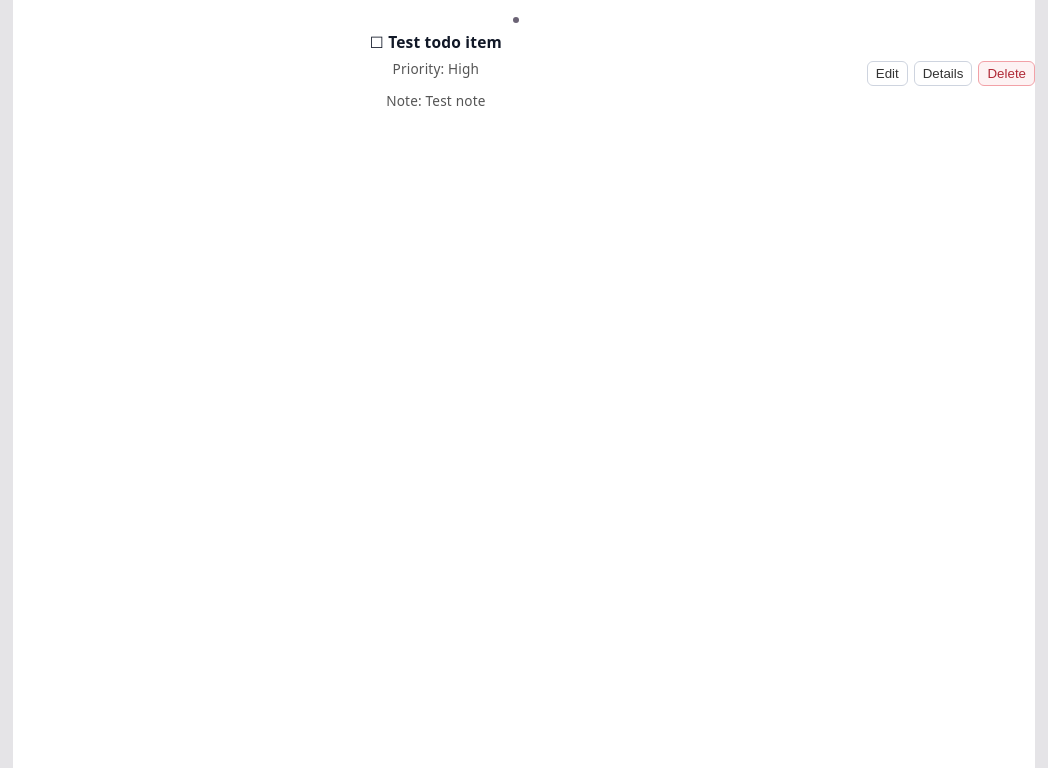
Test case: TodoItemRow › opens details form when Details is clicked
Click the button "Details": (943, 74) [914,61,972,86]
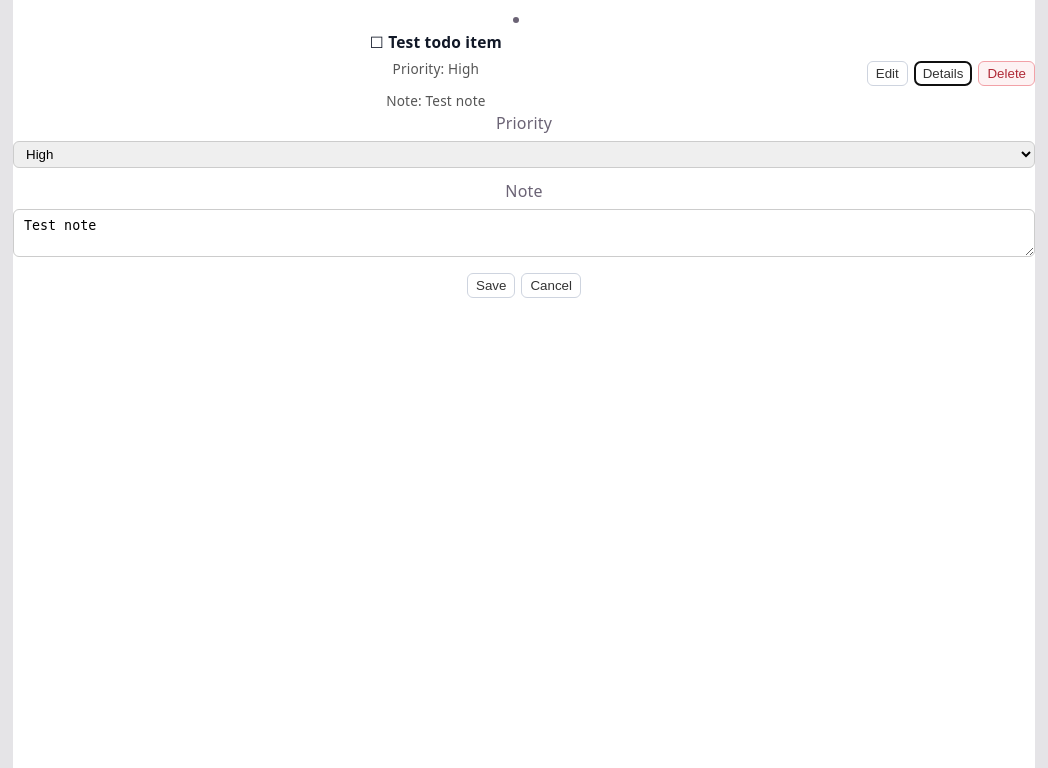
Check: the dropdown labelled "Priority" shows "High", box [13,141,1035,168]
Check: the text box with placeholder "Optional note" holds "Test note", box [13,209,1035,257]
